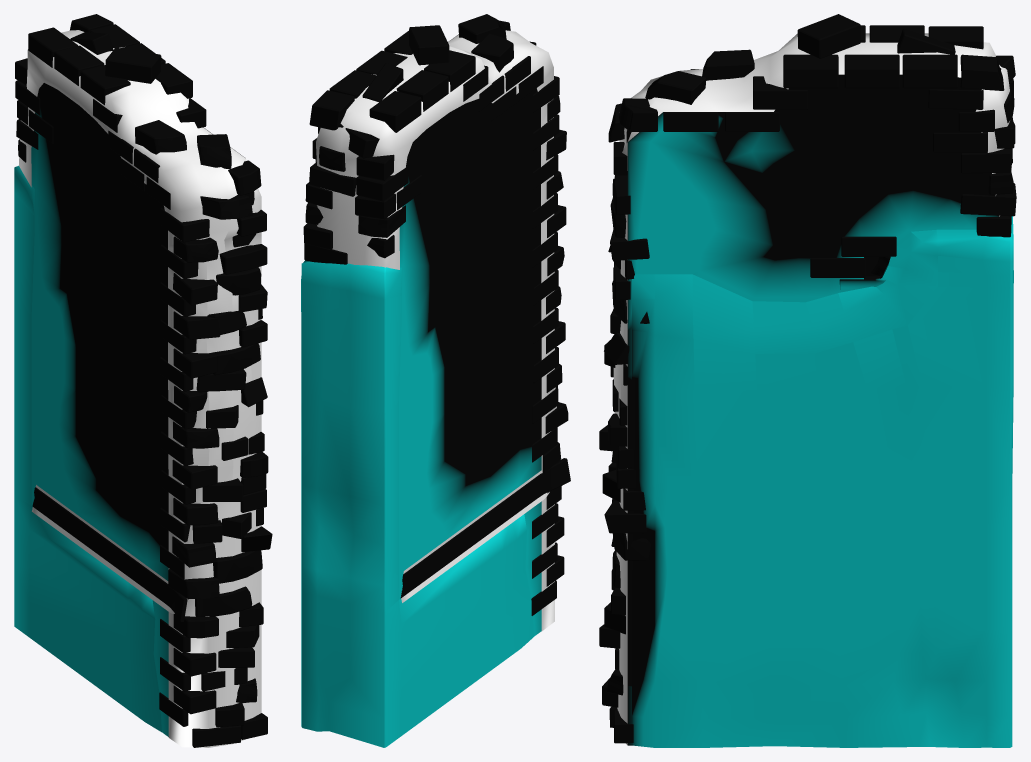
File: Fence3.fbx
3 renders of one model, left to right at view 1: azimuth 30°, elevation 25°; view 2: azimuth 150°, elevation 25°; view 3: azimuth 270°, elevation 25°, orthographic. The views are drawn at different scales.
Visible parts, largest first — view 1: SM_Ind_WL_Br_2mStraight01.mo; view 2: SM_Ind_WL_Br_2mStraight01.mo; view 3: SM_Ind_WL_Br_2mStraight01.mo.
Boxes of the visible parts, left/top/right/bottom form: SM_Ind_WL_Br_2mStraight01.mo: left=14, top=14, right=272, bottom=747; SM_Ind_WL_Br_2mStraight01.mo: left=301, top=14, right=570, bottom=747; SM_Ind_WL_Br_2mStraight01.mo: left=599, top=14, right=1016, bottom=747.
Bounding box in the file's own units: 62.62 × 417 × 226.
